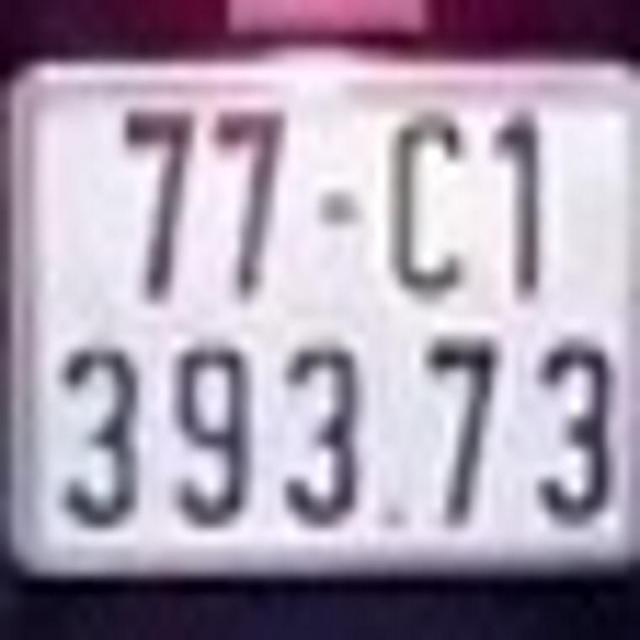1: (491, 102, 544, 284)
3: (280, 339, 362, 527), (536, 326, 612, 524), (65, 340, 138, 530)
7: (418, 334, 496, 534), (211, 107, 288, 296), (122, 100, 190, 308)
9: (170, 339, 256, 536)
C: (388, 107, 474, 296)
